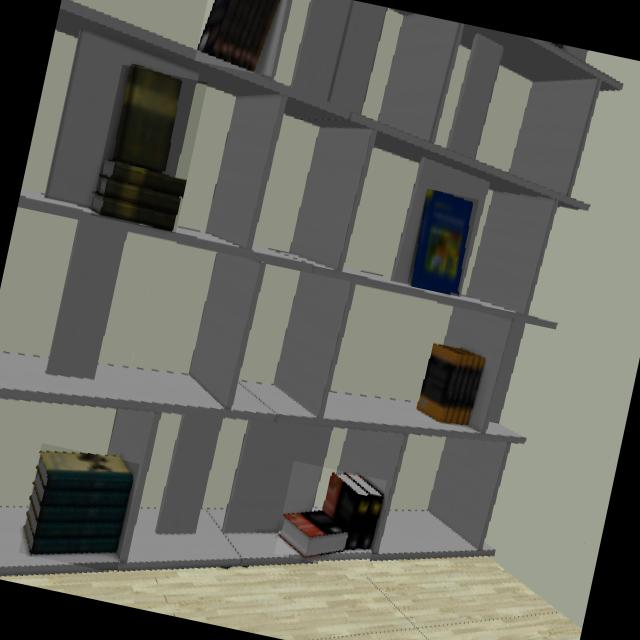book: (91, 67, 186, 232), (26, 455, 134, 559), (277, 475, 383, 562), (411, 190, 474, 295), (197, 0, 284, 73), (416, 343, 486, 427)
